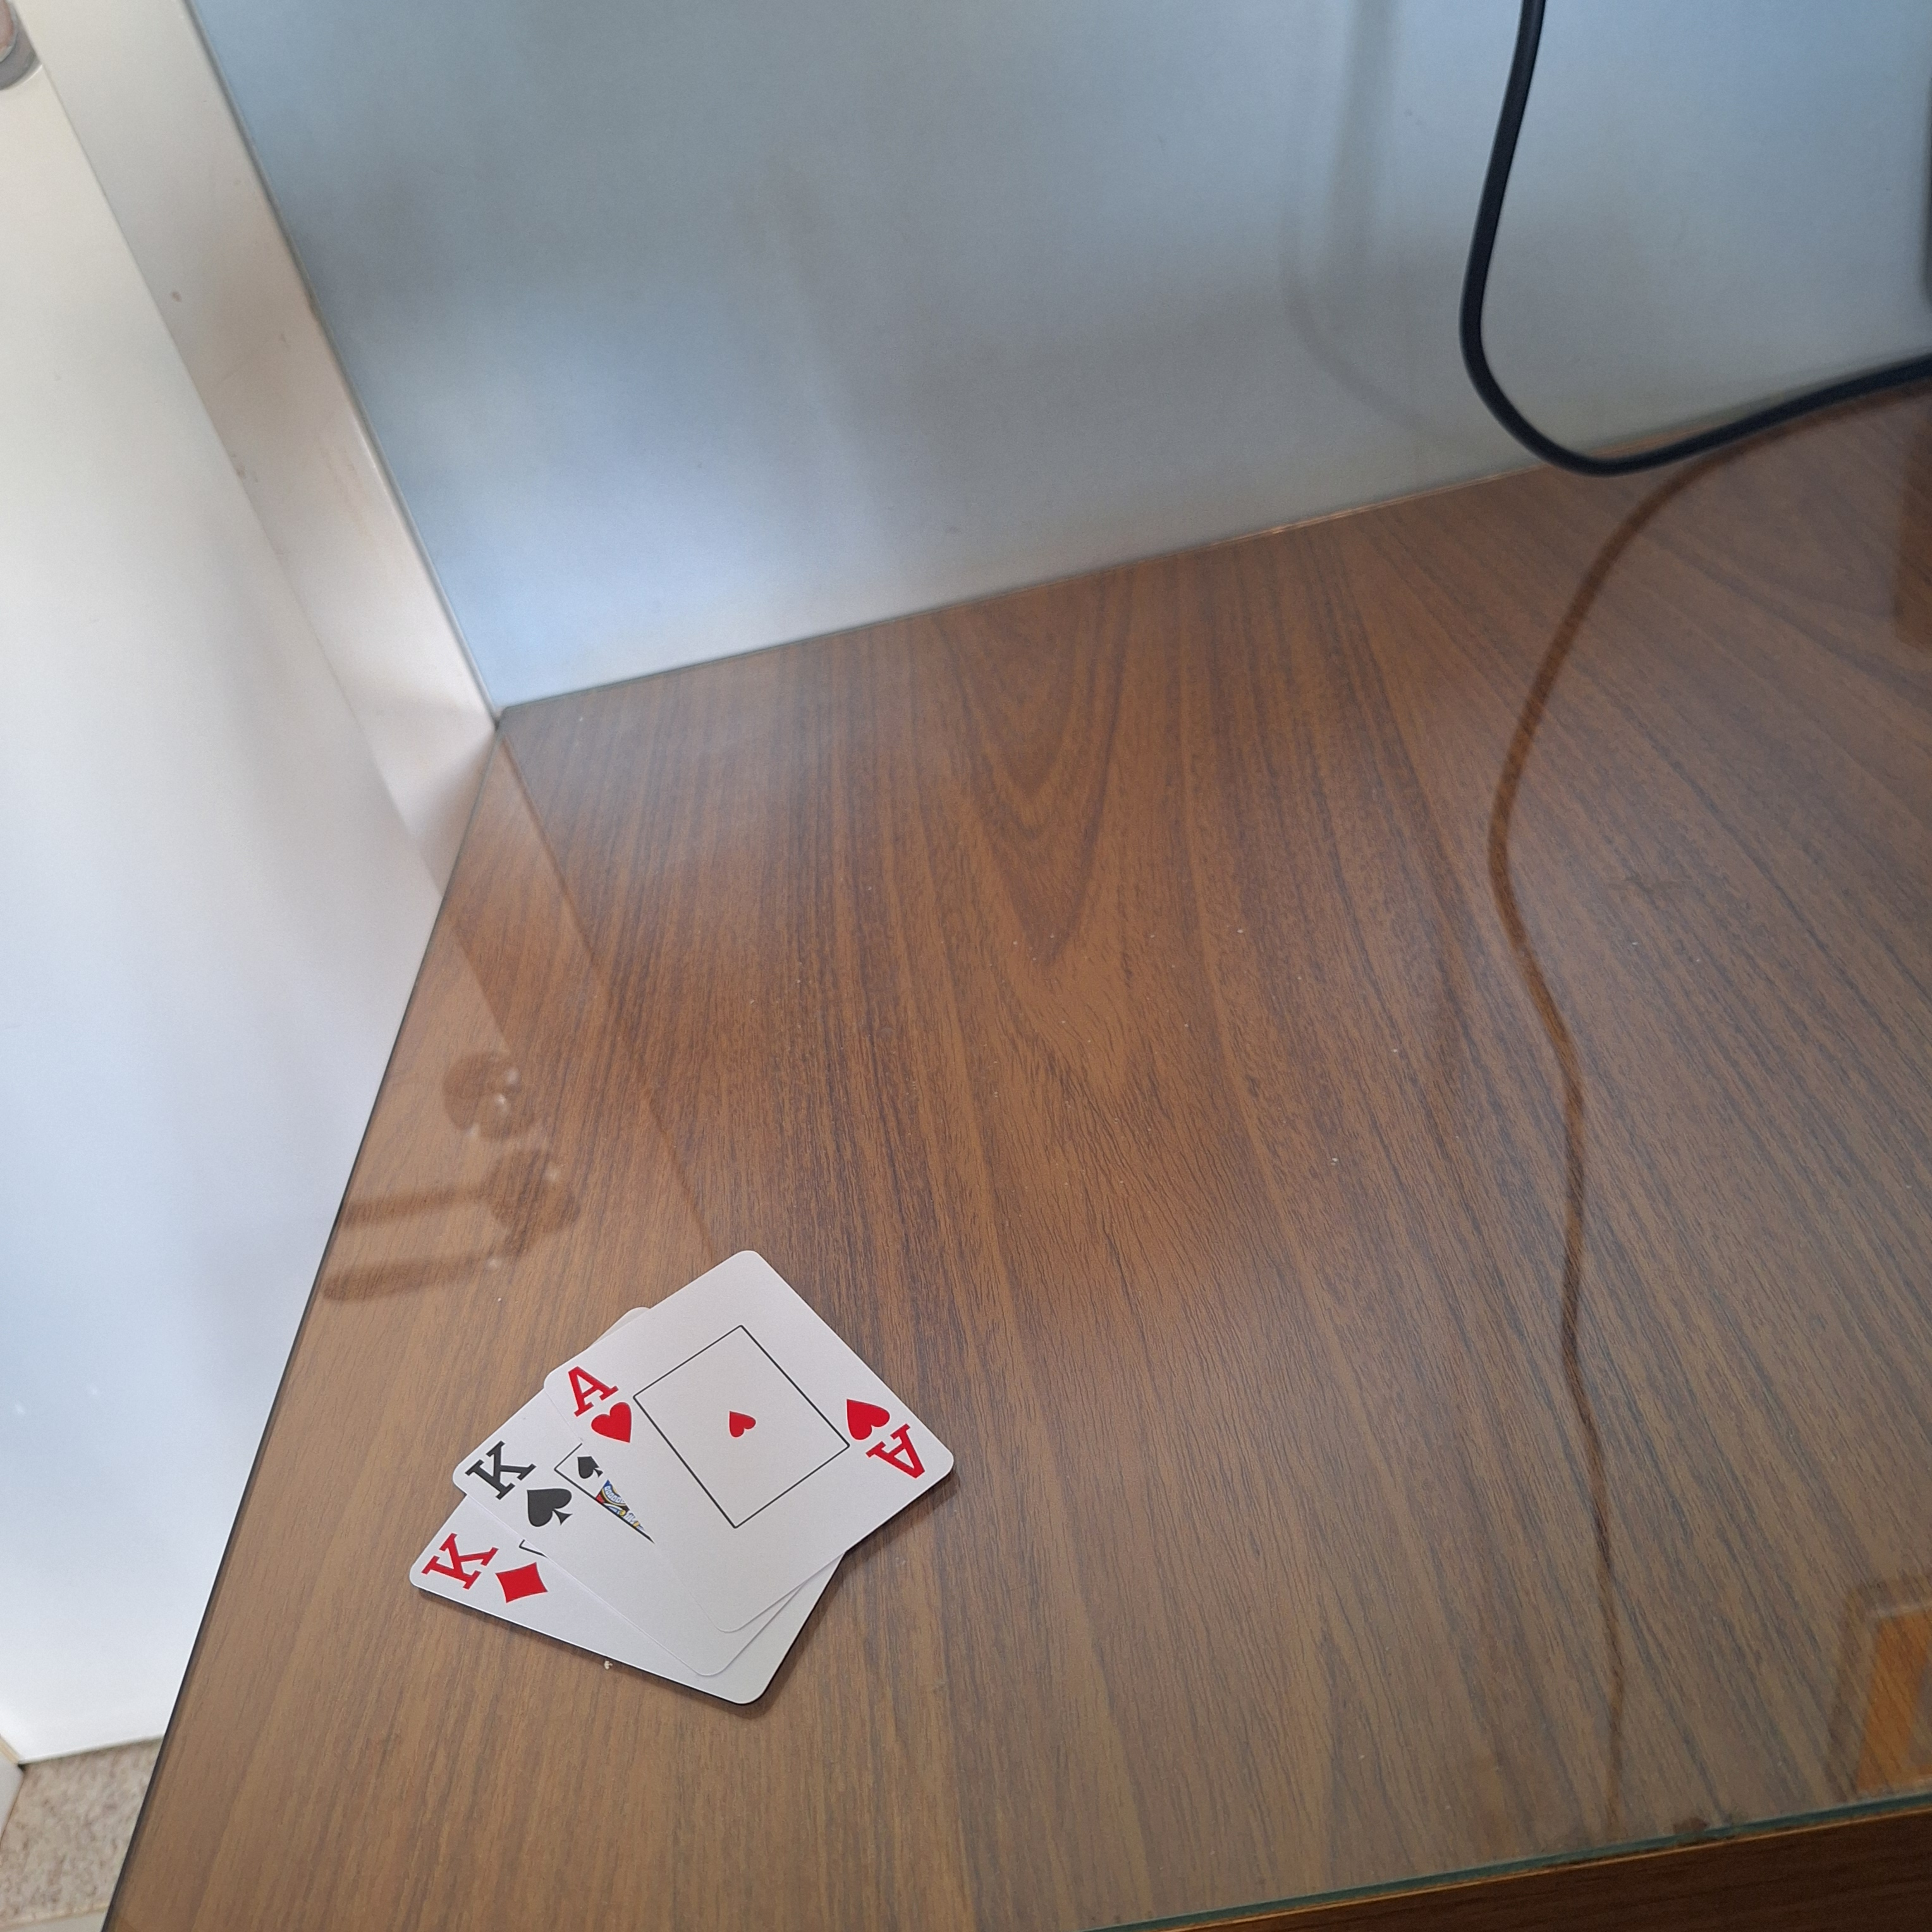AC: (840, 1387, 932, 1484), (561, 1359, 648, 1447)
KE: (458, 1438, 573, 1530)
KO: (409, 1529, 552, 1612)
